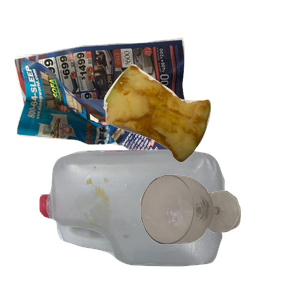glass: (138, 172, 300, 300)
paper: (12, 31, 196, 204)
plastic: (37, 147, 254, 300)
trash: (101, 62, 300, 217)
